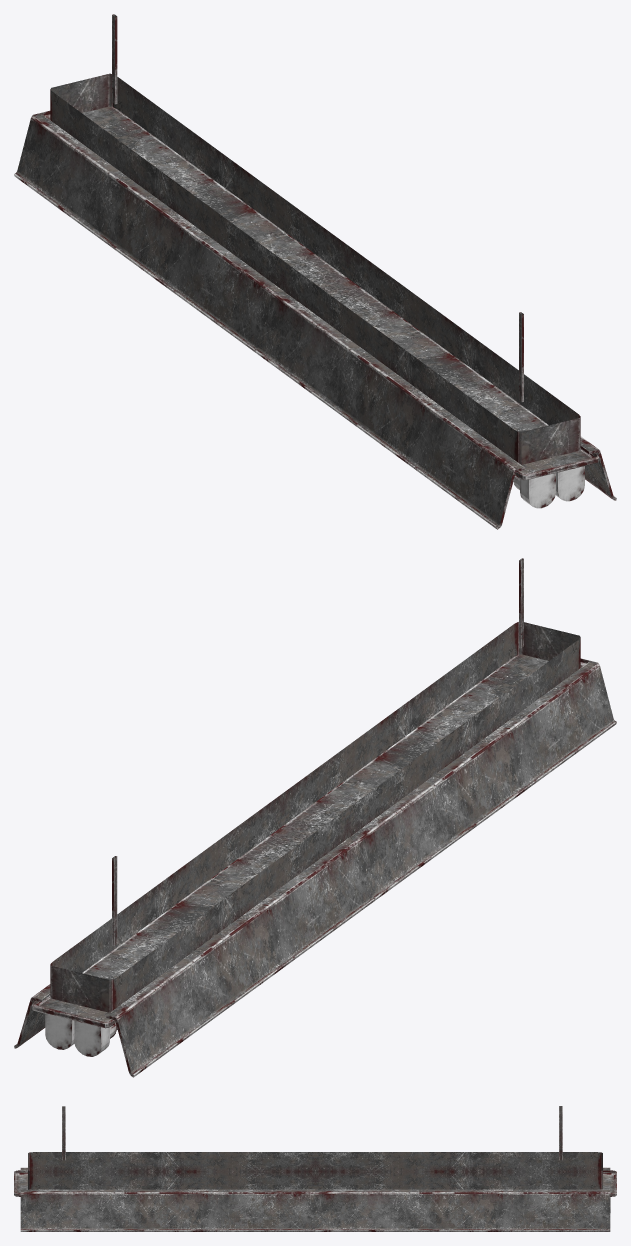
File: Lamp.FBX
3 views of the same model, one above another, from view 1: azimuth 30°, elevation 25°; view 2: azimuth 150°, elevation 25°; view 3: azimuth 270°, elevation 25° (orthographic). The views are drawn at different scales.
Parts seen in each view (by area): view 1: Lamp, Bubble2, Bubble; view 2: Lamp, Bubble2, Bubble; view 3: Lamp.
Boxes of the visible parts, x1=… form: Lamp: x1=14, y1=14, x2=616, y2=529; Bubble2: x1=513, y1=473, x2=555, y2=508; Bubble: x1=555, y1=466, x2=584, y2=501; Lamp: x1=14, y1=558, x2=616, y2=1077; Bubble2: x1=74, y1=1020, x2=116, y2=1056; Bubble: x1=45, y1=1013, x2=74, y2=1049; Lamp: x1=14, y1=1106, x2=616, y2=1231.
Size of the model in its own units: 82.88 by 116 by 589.
Materials: 1 (1 with a texture image).
